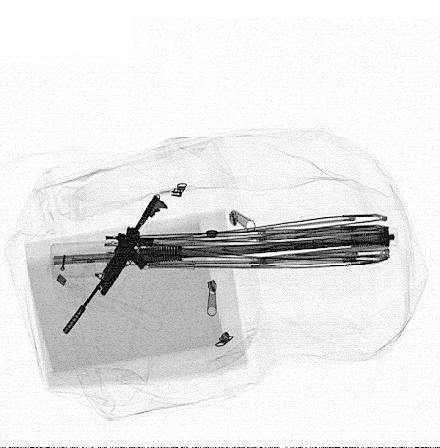Gun: (62, 194, 170, 339)
